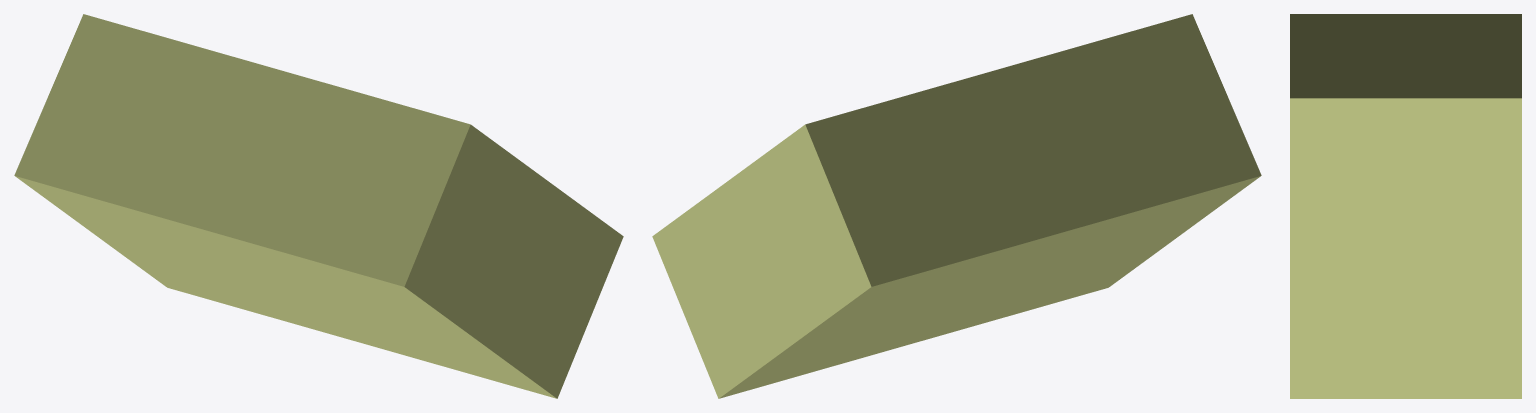
3 views of the same model, side by side, from view 1: azimuth 30°, elevation 25°; view 2: azimuth 150°, elevation 25°; view 3: azimuth 270°, elevation 25° (orthographic). The views are drawn at different scales.
Visible parts, largest first — view 1: 0_0_1_3_1_2_3_1_2_0; view 2: 0_0_1_3_1_2_3_1_2_0; view 3: 0_0_1_3_1_2_3_1_2_0.
Boxes of the visible parts, x1,y1,x2,y2 form: 0_0_1_3_1_2_3_1_2_0: (14,14,623,398); 0_0_1_3_1_2_3_1_2_0: (652,14,1261,398); 0_0_1_3_1_2_3_1_2_0: (1290,14,1521,398).
Bounding box in the file's own units: 15.5 × 11.4 × 9.
